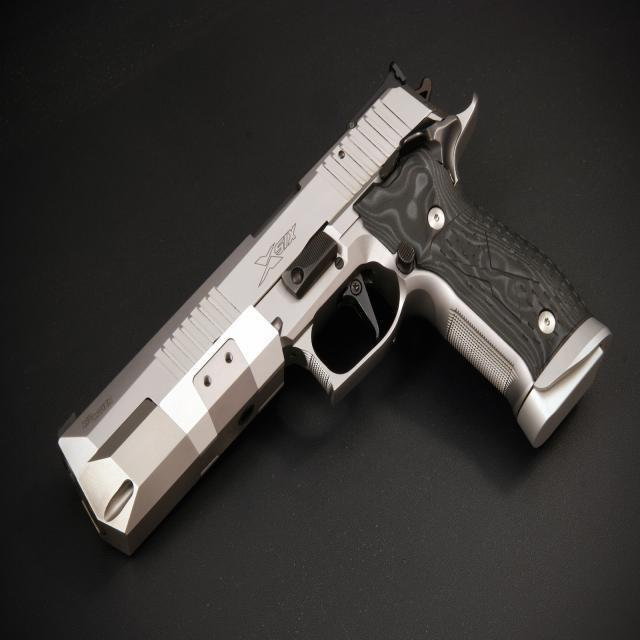Pistol: (42, 45, 628, 588)
